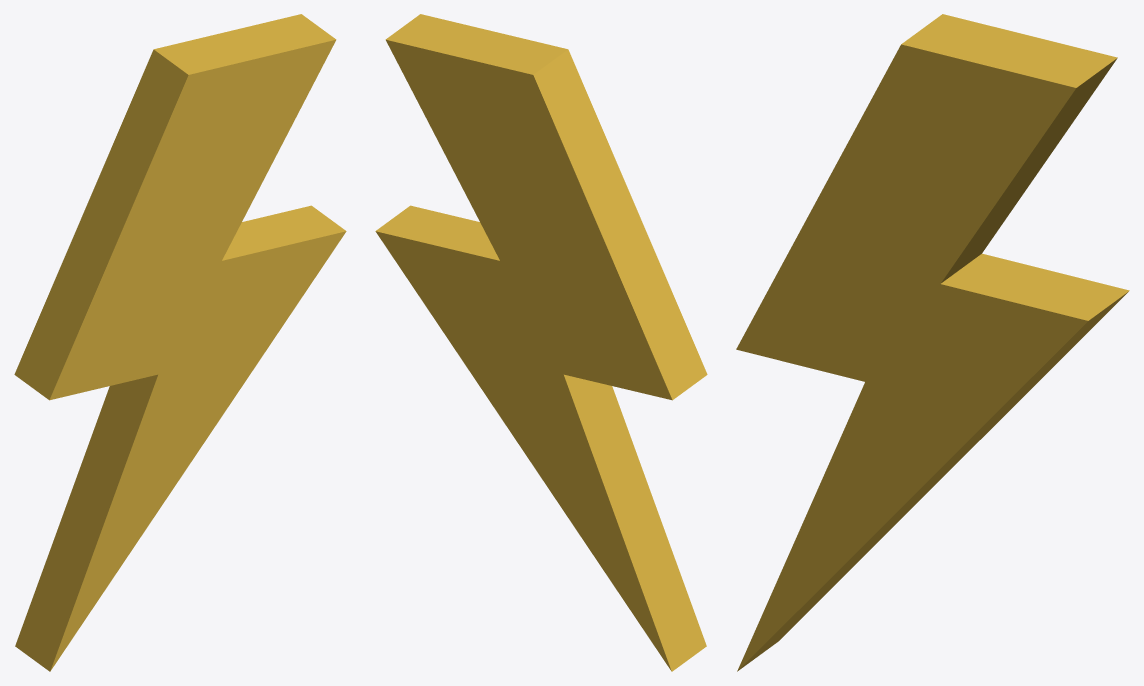
File: electricity.fbx
3 views of the same model, side by side, from view 1: azimuth 30°, elevation 25°; view 2: azimuth 150°, elevation 25°; view 3: azimuth 330°, elevation 25° (orthographic). The views are drawn at different scales.
Parts seen in each view (by area): view 1: electricity; view 2: electricity; view 3: electricity.
Part boxes in pixels (bbox=[...]): electricity: bbox=[14, 14, 346, 671]; electricity: bbox=[375, 14, 707, 671]; electricity: bbox=[736, 14, 1129, 671].
Size of the model in its own units: 441 by 798 by 90.
